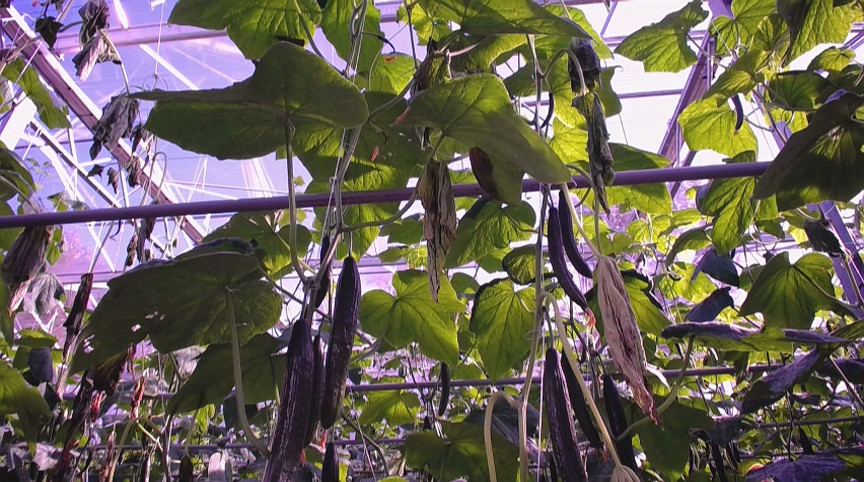cucumber: (269, 319, 316, 481), (321, 259, 363, 432), (543, 348, 588, 481), (545, 214, 587, 310), (602, 376, 638, 467), (559, 194, 594, 278)
